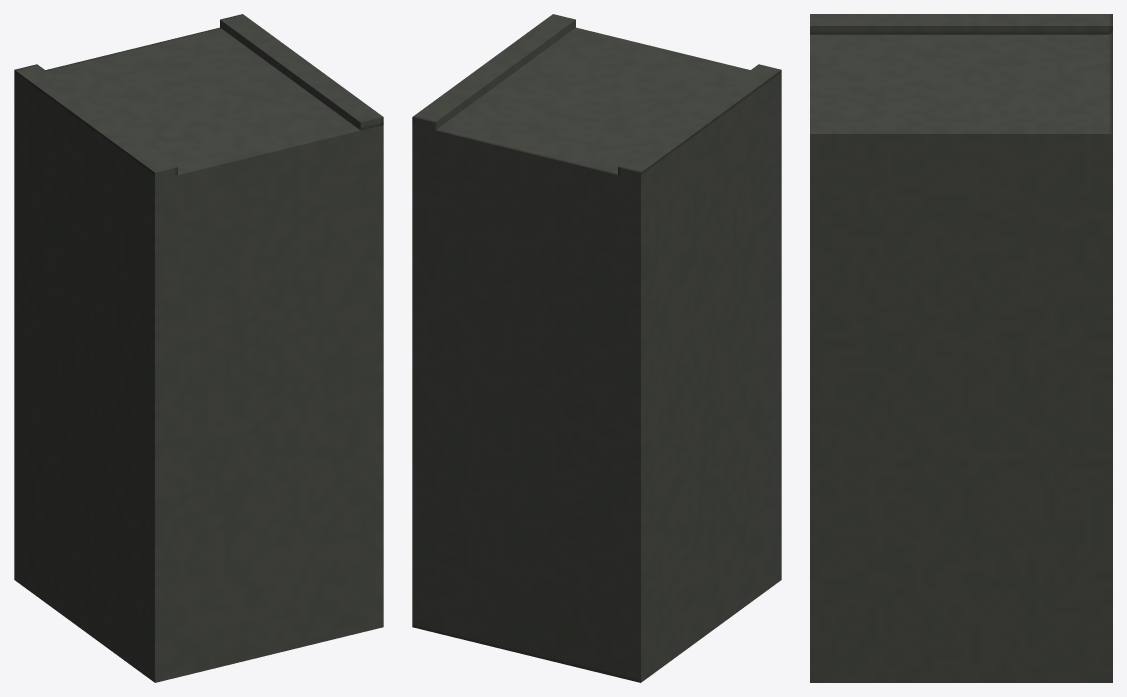
File: sciana_prejście_proste.dae
3 renders of one model, left to right at view 1: azimuth 30°, elevation 25°; view 2: azimuth 150°, elevation 25°; view 3: azimuth 270°, elevation 25°, orthographic. The views are drawn at different scales.
Visible parts, largest first — view 1: Content; view 2: Content; view 3: Content.
Boxes of the visible parts, x1,y1,x2,y2 form: Content: (14,14,383,682); Content: (412,14,781,682); Content: (810,14,1112,682).
Bounding box in the file's own units: 30 × 64 × 32.
1 material, 1 textured.
